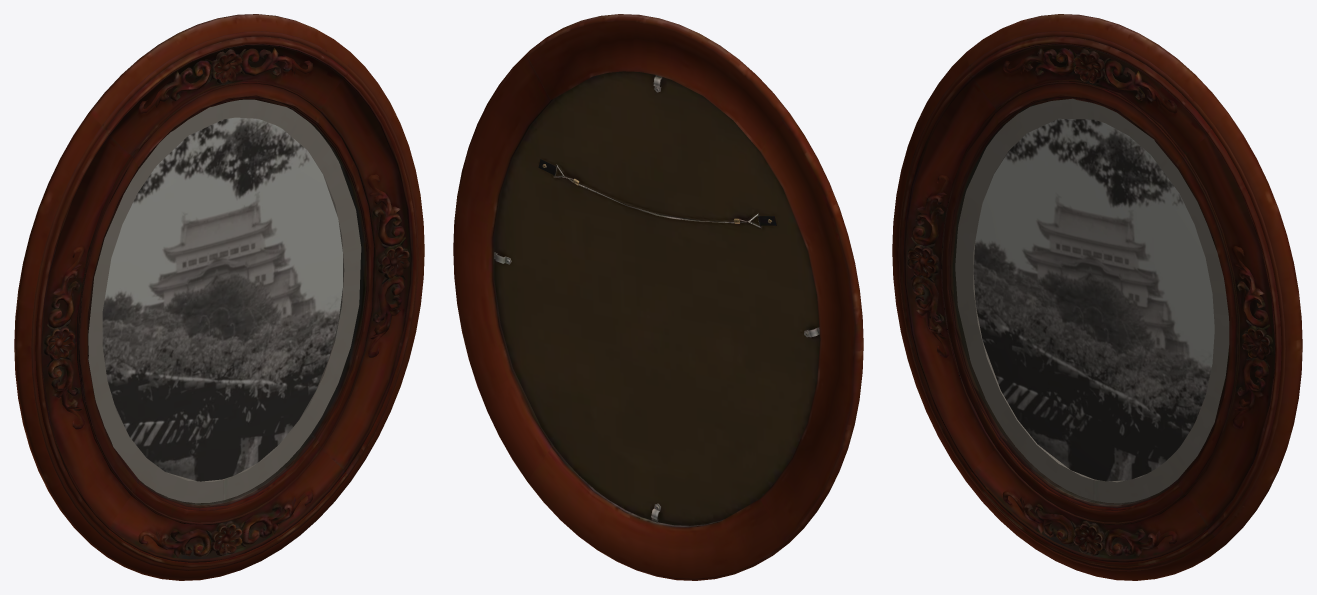
The model's file is hanging_picture_frame_03.glb.
3 views of the same model, side by side, from view 1: azimuth 30°, elevation 25°; view 2: azimuth 150°, elevation 25°; view 3: azimuth 330°, elevation 25° (orthographic).
Parts seen in each view (by area): view 1: hanging_picture_frame_03, hanging_picture_frame_03_glass; view 2: hanging_picture_frame_03; view 3: hanging_picture_frame_03, hanging_picture_frame_03_glass.
Part boxes in pixels (x1,y1,x2,y2): hanging_picture_frame_03: (14, 14, 424, 580); hanging_picture_frame_03_glass: (88, 100, 364, 504); hanging_picture_frame_03: (453, 14, 863, 580); hanging_picture_frame_03: (892, 14, 1302, 580); hanging_picture_frame_03_glass: (953, 99, 1228, 504).
Bounding box in the file's own units: 0.3847 × 0.502 × 0.0317.
3 materials, 2 textured.
